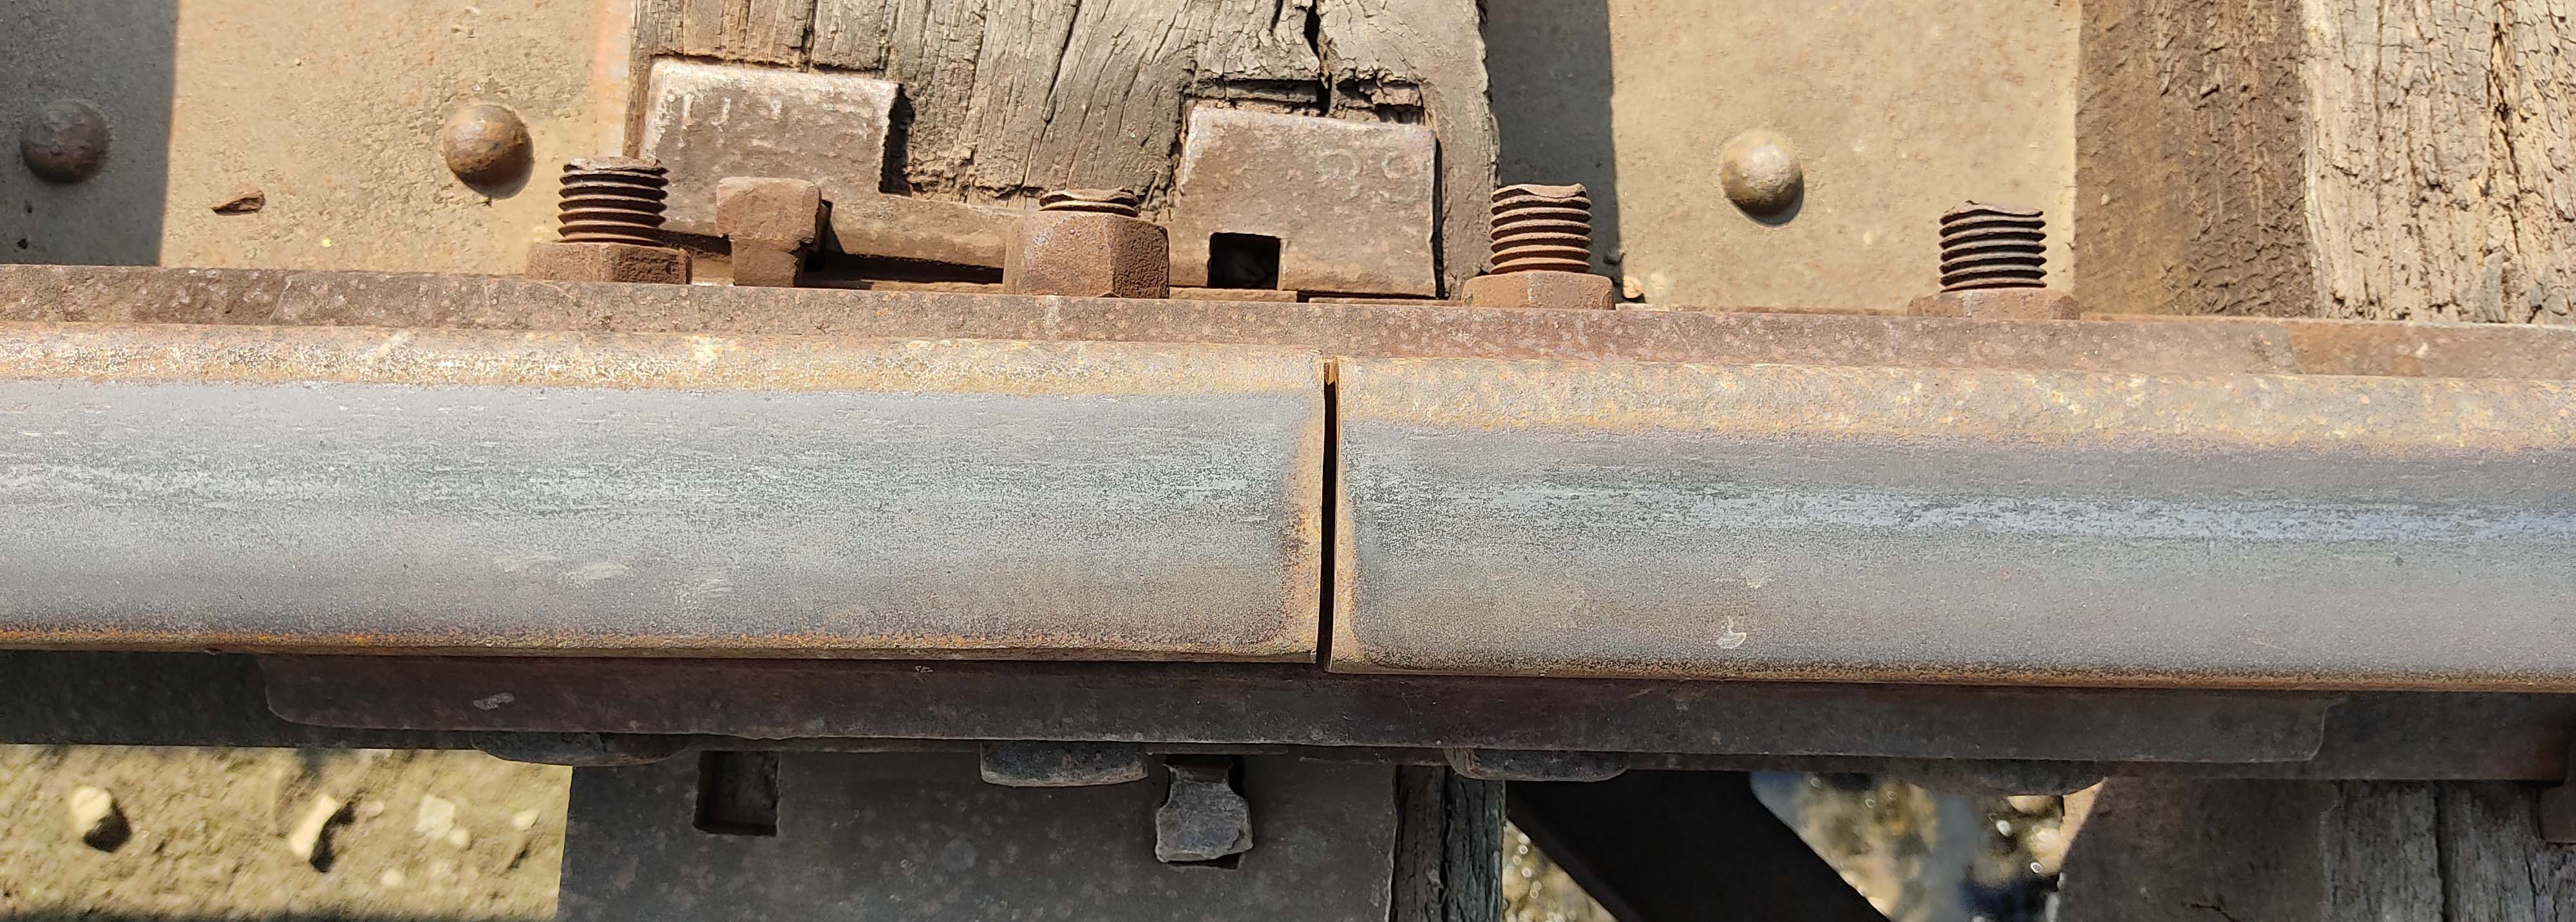error2: (1281, 339, 1416, 697)
